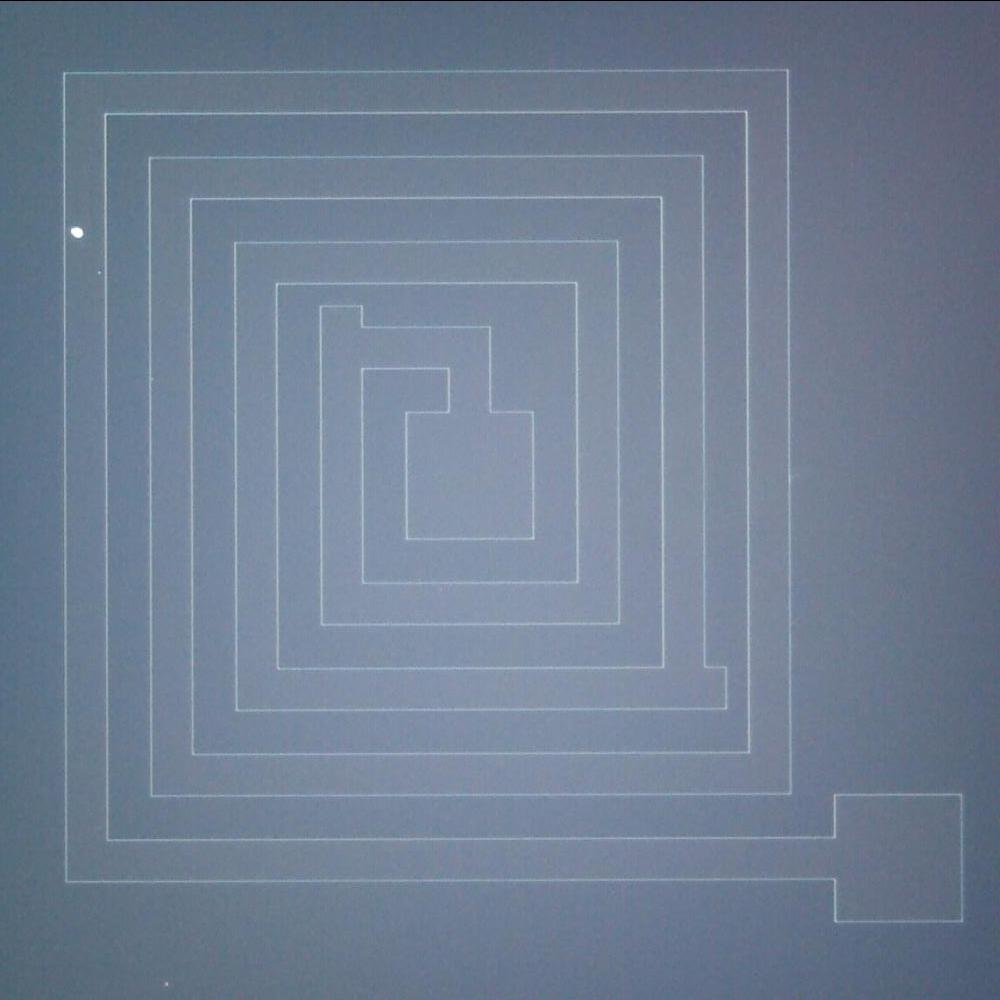budge circuit: (692, 637, 736, 721), (308, 296, 379, 338)
spot: (66, 218, 93, 244)
